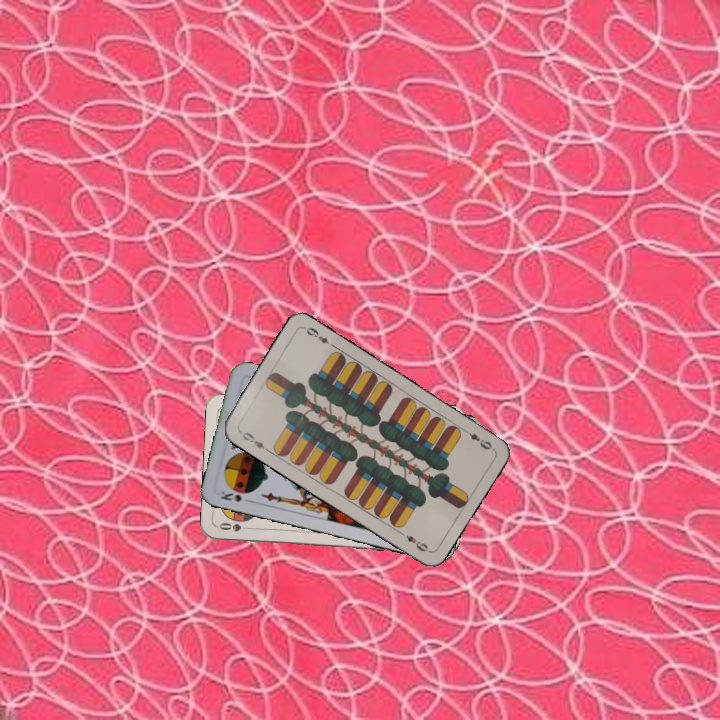E9: (235, 426, 271, 454), (459, 425, 495, 452)
SK: (216, 486, 244, 505)
SO: (215, 518, 255, 534)
